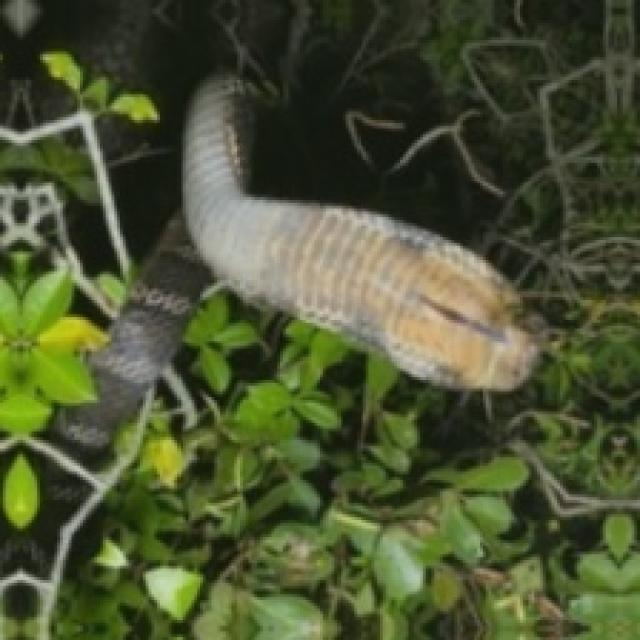king cobra: (183, 74, 537, 389)
